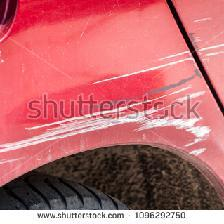scrach: (88, 76, 124, 86)
